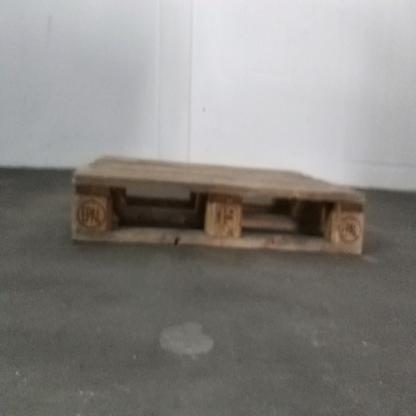BoxFace: (68, 150, 372, 260)
